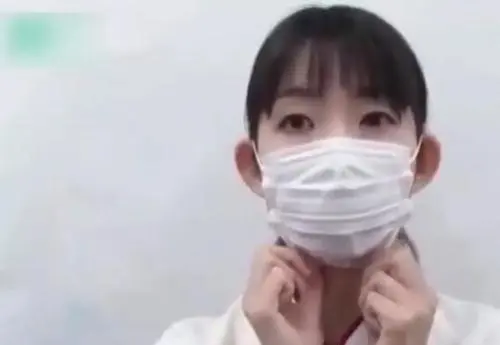withmask: (243, 1, 434, 270)
